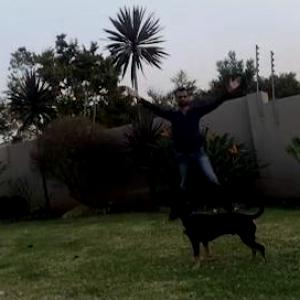takeoff: (121, 75, 241, 213)
